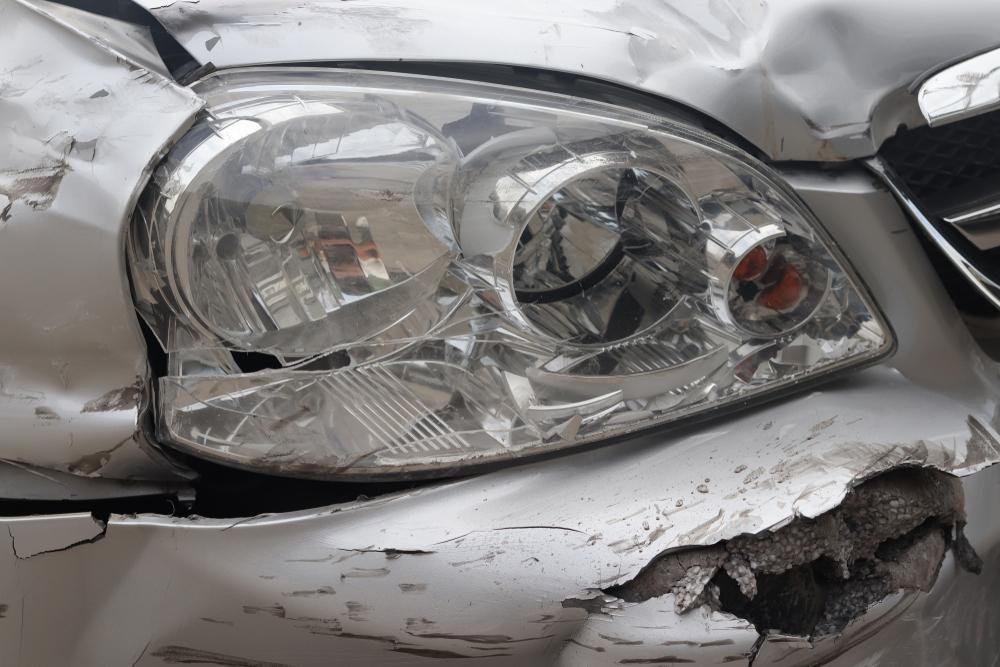crack: (595, 452, 1000, 643), (4, 513, 112, 559)
dent: (569, 0, 889, 130), (2, 3, 194, 195), (157, 0, 416, 62), (2, 329, 134, 422)
lamp broken: (130, 72, 890, 492)
scratch: (149, 515, 778, 667)
